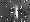person: (11, 6, 18, 20)
